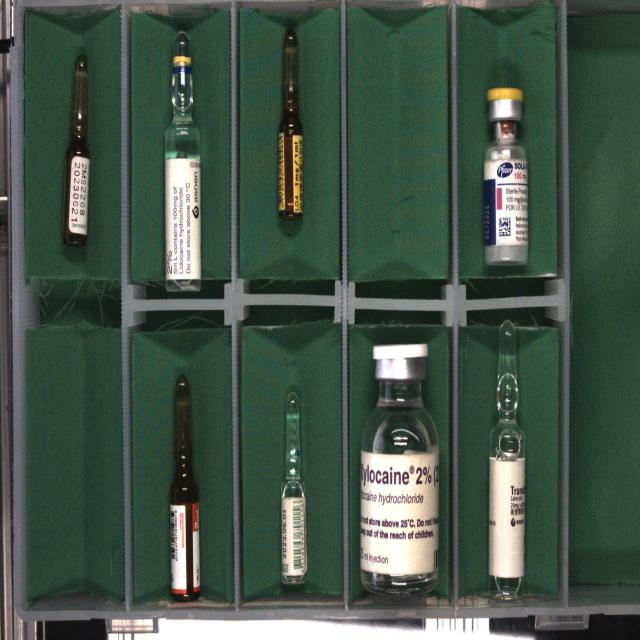Vials: (360, 343, 439, 594), (484, 87, 528, 266)
